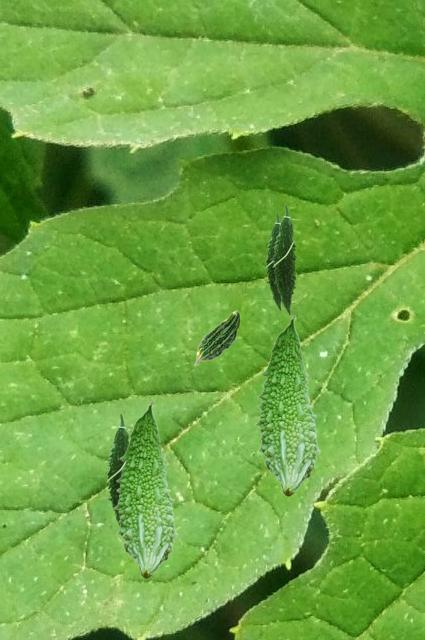ampalaya: (254, 314, 321, 497), (113, 400, 178, 579), (270, 203, 300, 316), (104, 412, 131, 525), (194, 310, 241, 366), (263, 211, 281, 311)
